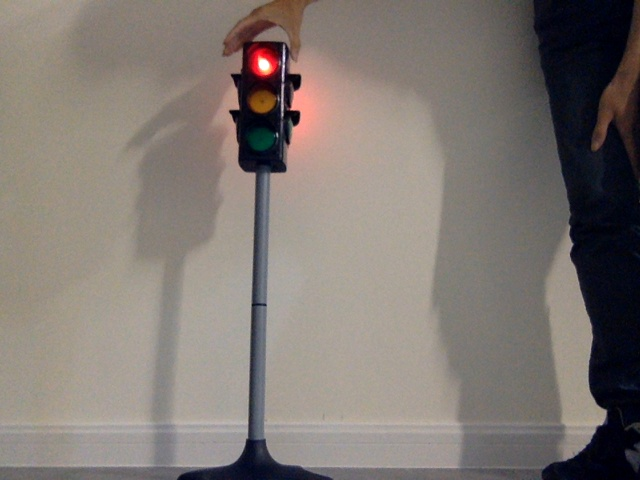red: (238, 47, 281, 156)
